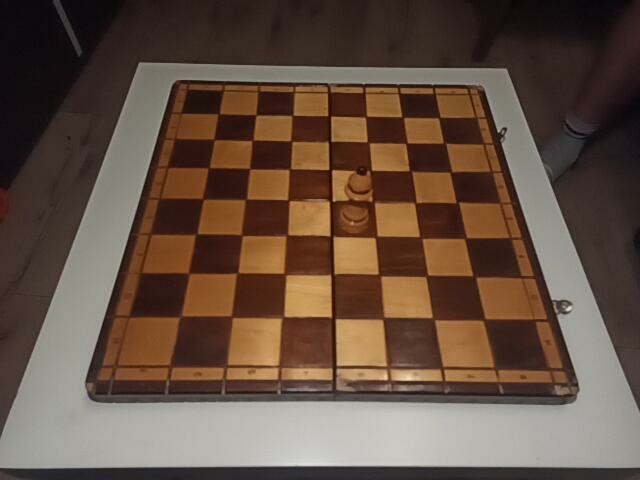W-Bishop: (338, 166, 373, 234)
